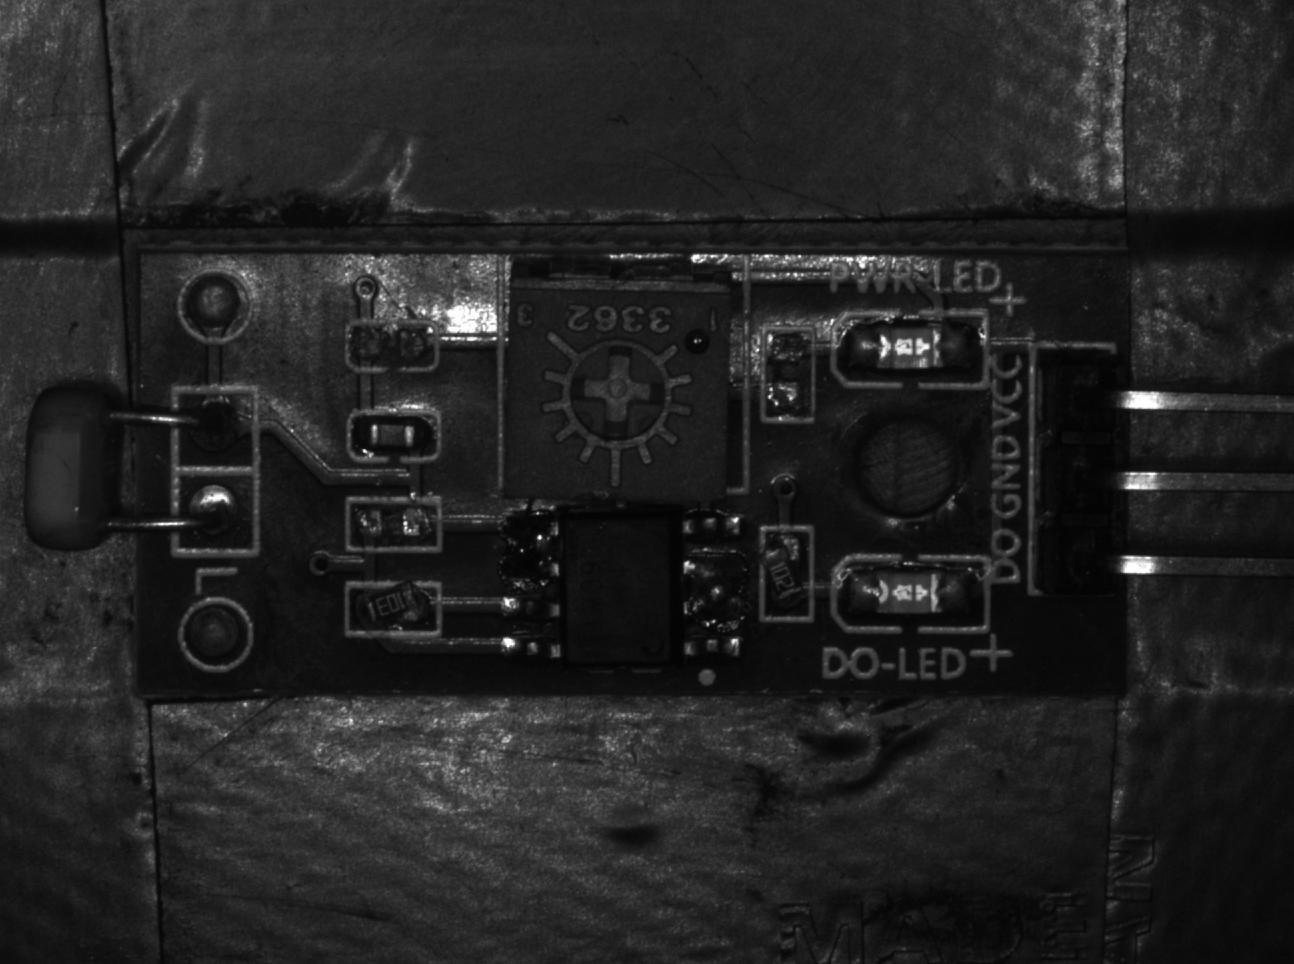bridge: (682, 548, 750, 630), (501, 512, 567, 588)
lifted: (343, 581, 440, 633), (761, 528, 812, 619)
miss: (761, 328, 814, 422), (348, 322, 439, 373), (348, 498, 442, 547)
ok: (348, 412, 442, 461)
